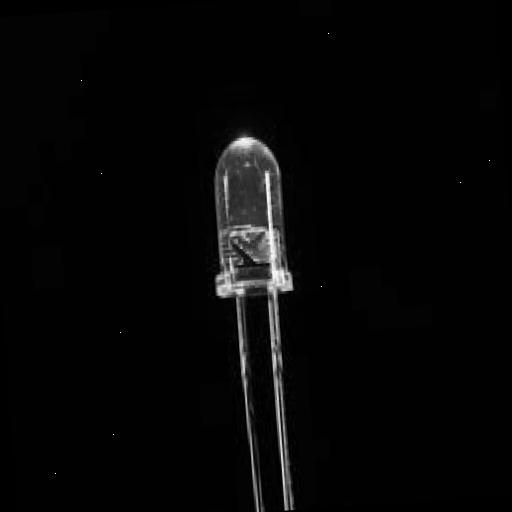LED: (146, 82, 367, 353)
